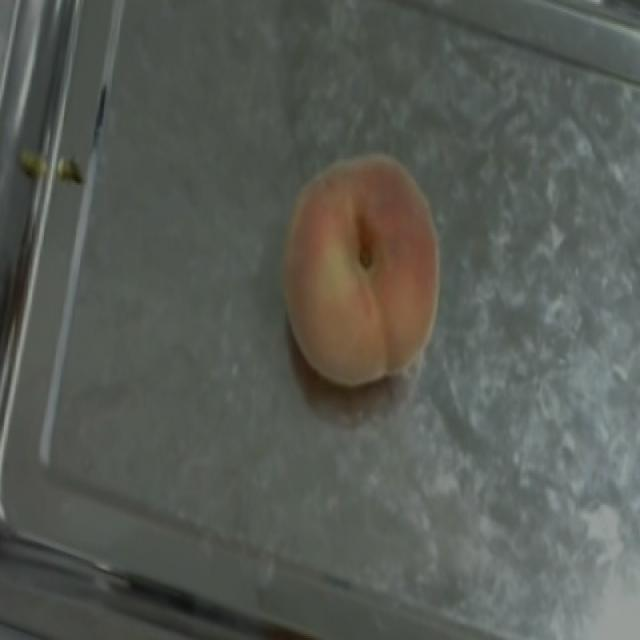Fruit: (253, 124, 483, 414)
